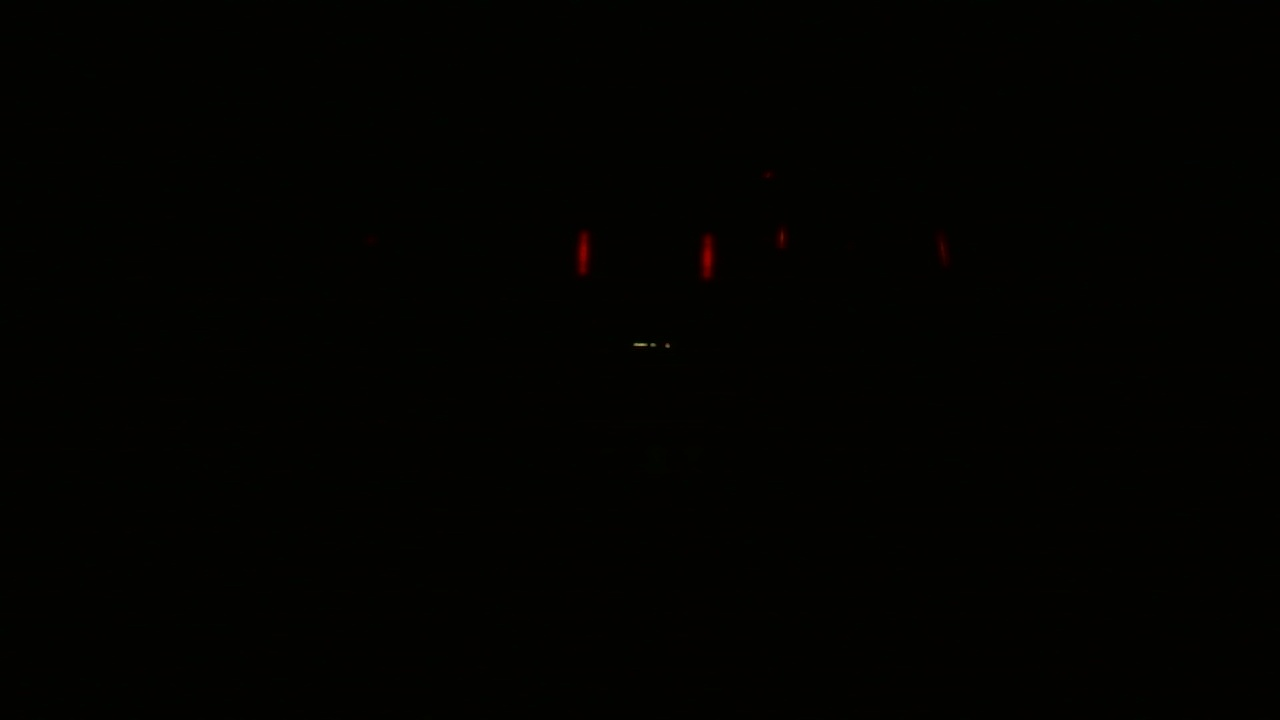pair1: (575, 226, 715, 284)
